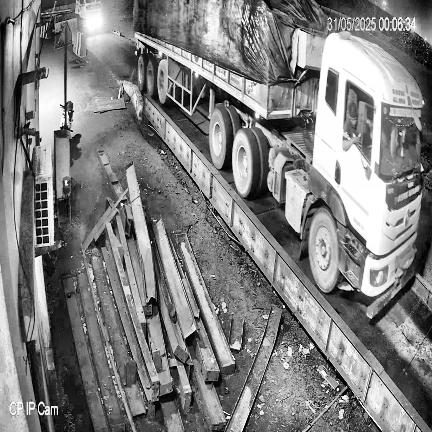tyre: (309, 207, 339, 292), (233, 129, 260, 199), (209, 106, 233, 169), (252, 128, 269, 194), (158, 59, 170, 105), (146, 54, 157, 98), (227, 106, 241, 136), (138, 54, 148, 92)
